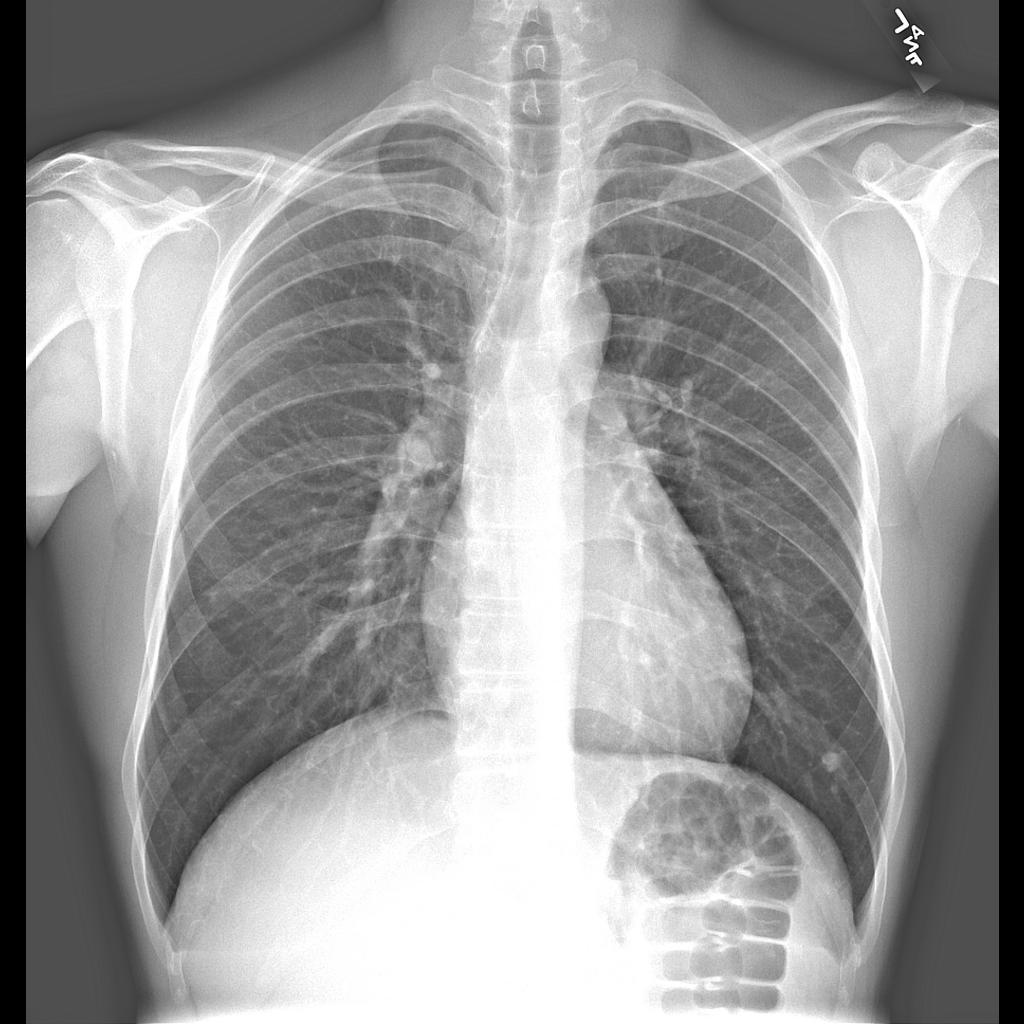Nodule: (816, 746, 843, 780)
